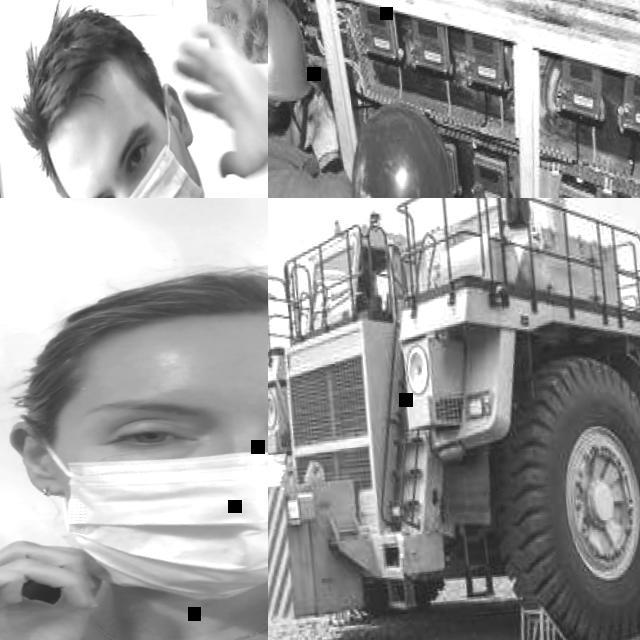helmet: (333, 99, 462, 198), (268, 0, 315, 109)
